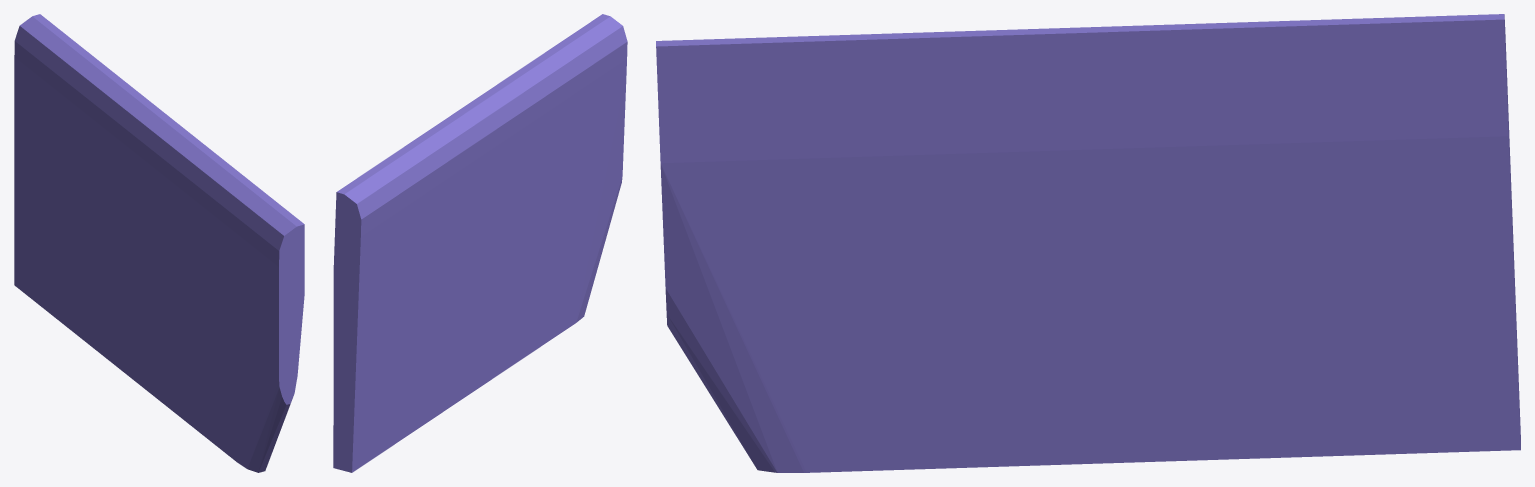
The model's file is converted_Downdraft_Assy_collision_52_8a7edaff.obj.
3 renders of one model, left to right at view 1: azimuth 30°, elevation 25°; view 2: azimuth 150°, elevation 25°; view 3: azimuth 270°, elevation 25°, orthographic. The views are drawn at different scales.
Bounding box in the file's own units: 0.0253 × 0.26 × 0.4459.
